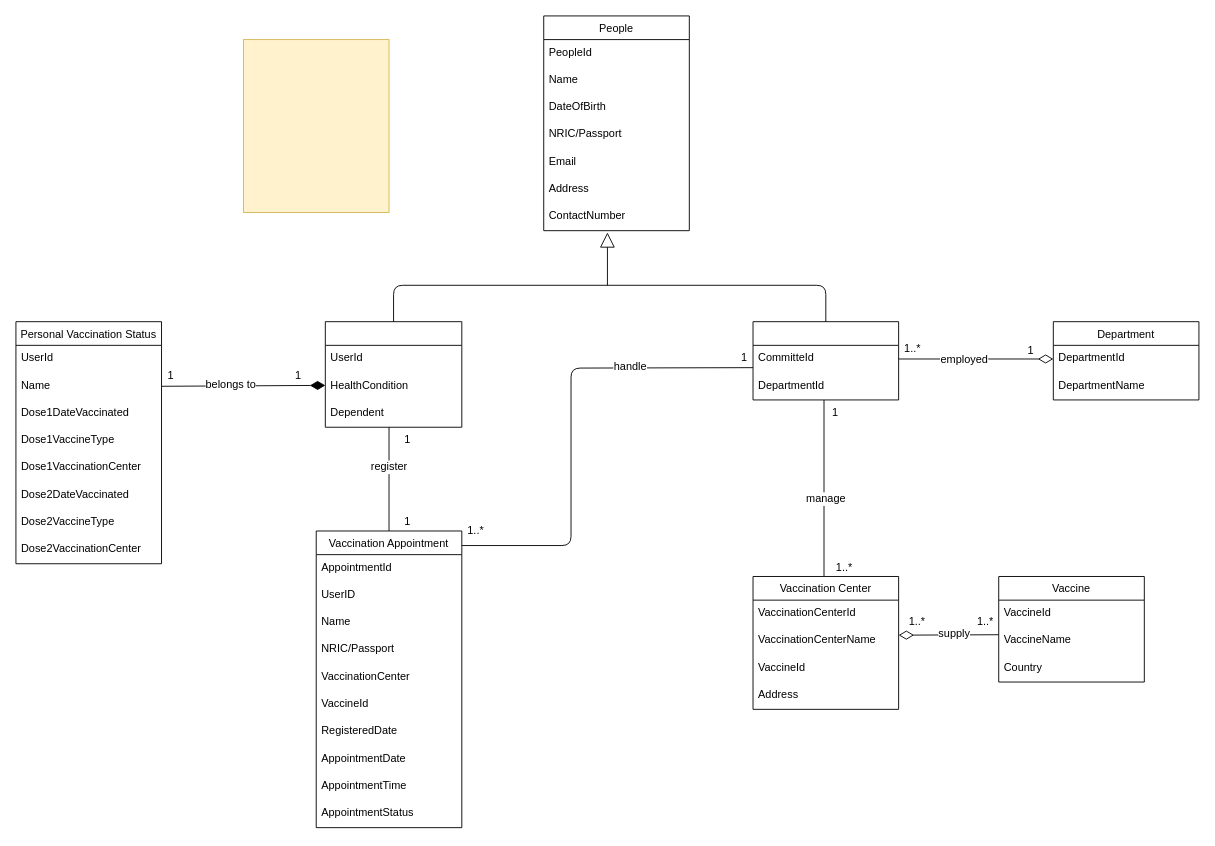
Image size: 1215x846. Some labels were removed from this diagram. The shapes that lost their labels are listed below. From the top down, each one's box as (x1, y1, x2, y2) in pixels, then its label:
(243, 39, 389, 212): - add access specifier - add method - check visibility or multiplicity
(324, 321, 462, 427): Citizen/ Non-citizen
(752, 321, 899, 400): Personnel of Committe
